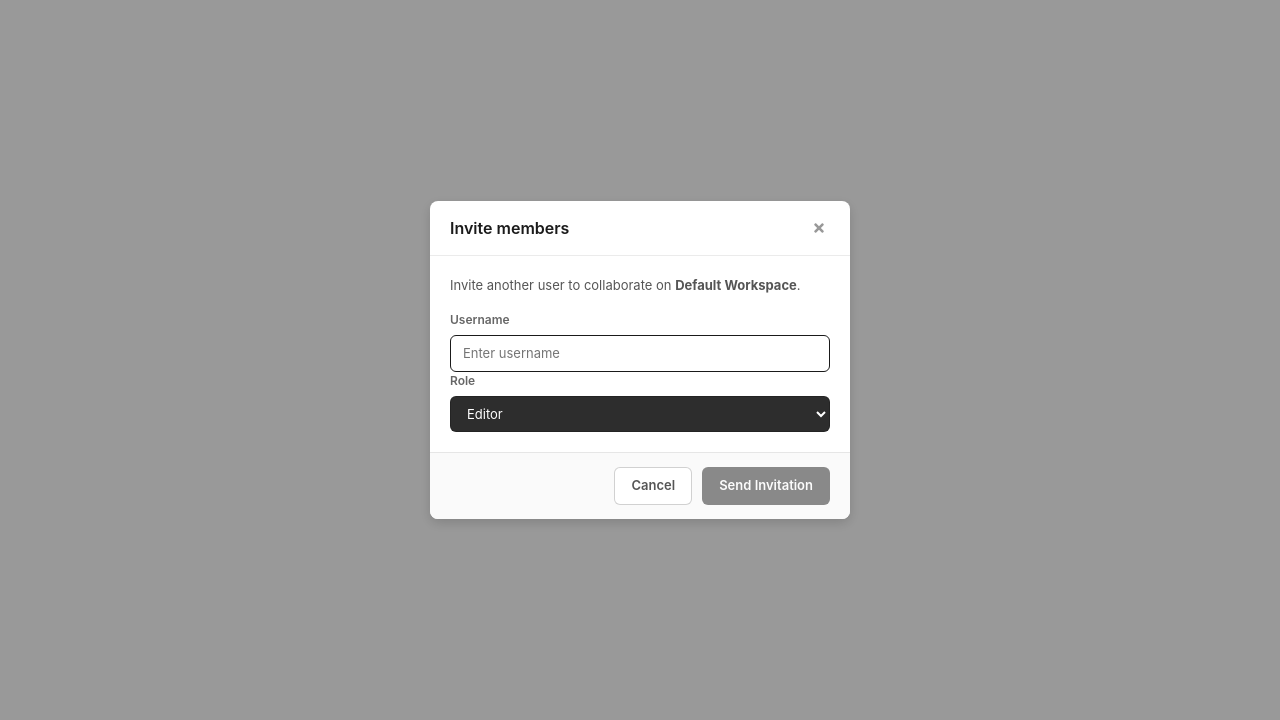
it: InviteModal Component Smoke Test › submits successfully and shows success feedback
In the field with placeholder "Enter username": (640, 353) top-left (450, 335), bottom-right (830, 372), type "inviteduser"
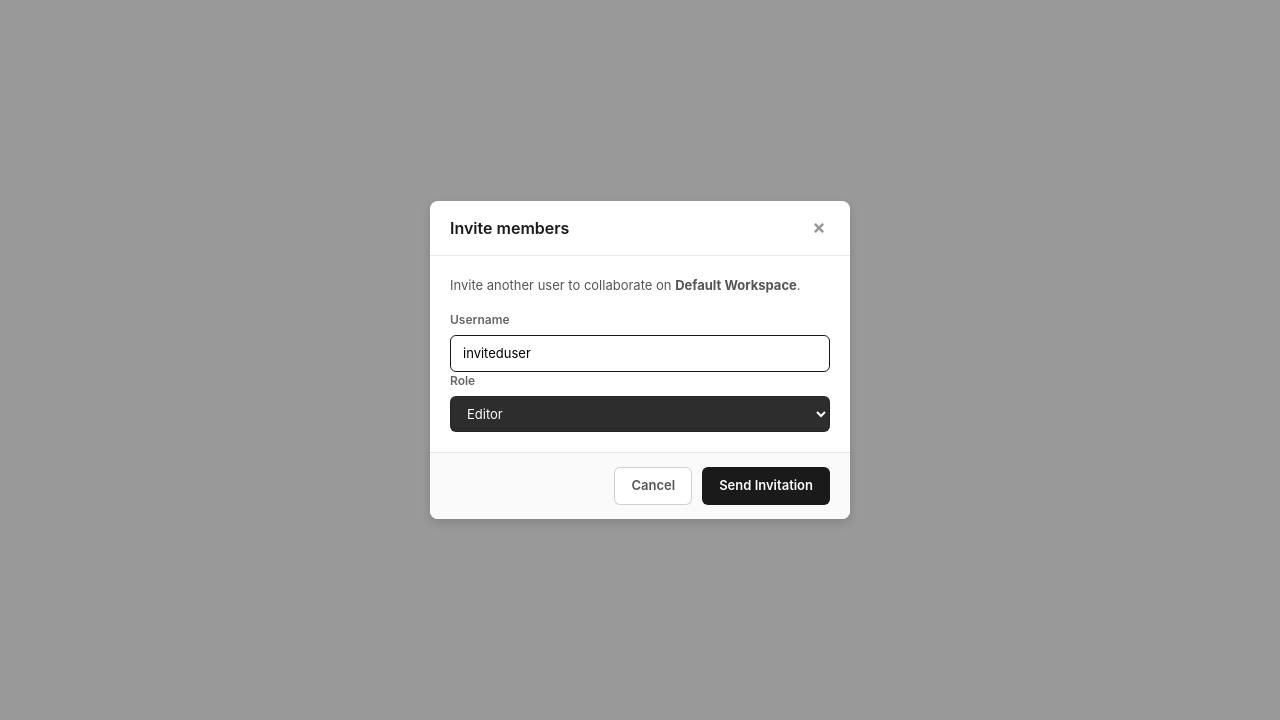
Click the button "Send Invitation": (766, 486) top-left (702, 467), bottom-right (830, 505)
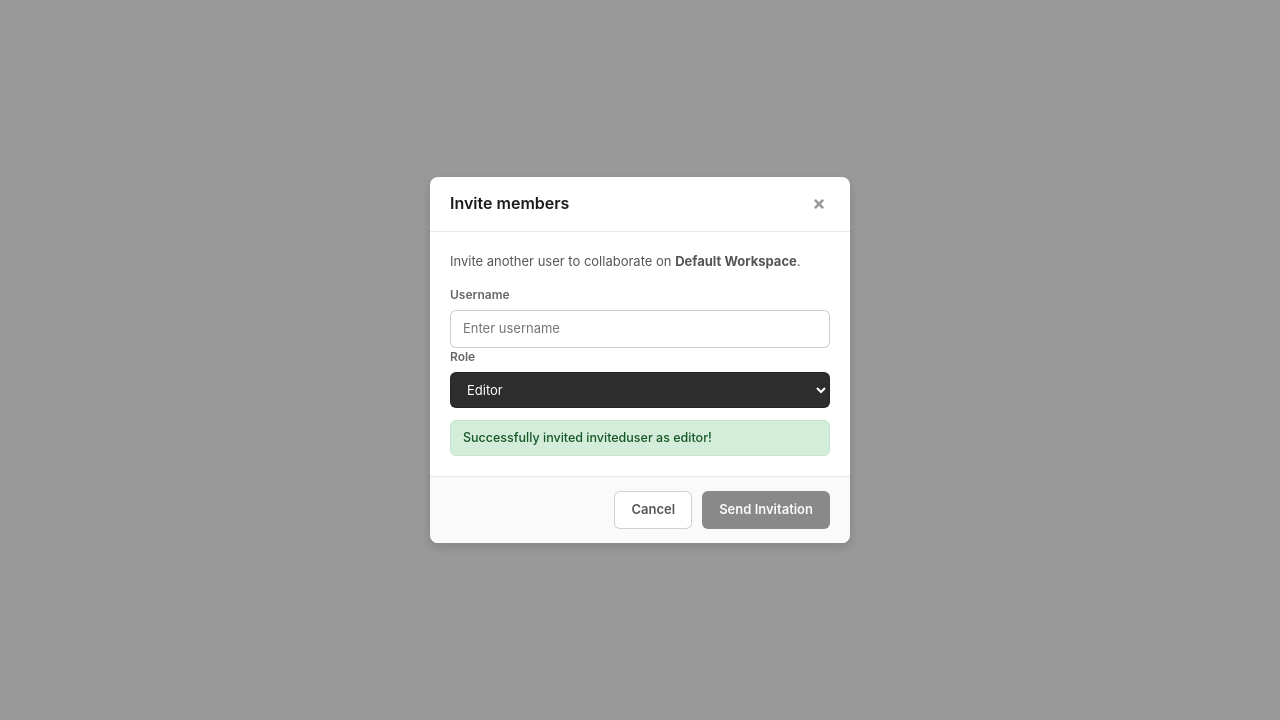
Now the text "Successfully invited inviteduser as editor!" is shown, box top-left (450, 420), bottom-right (830, 456)
Now the field with placeholder "Enter username" is empty, box top-left (450, 310), bottom-right (830, 348)
